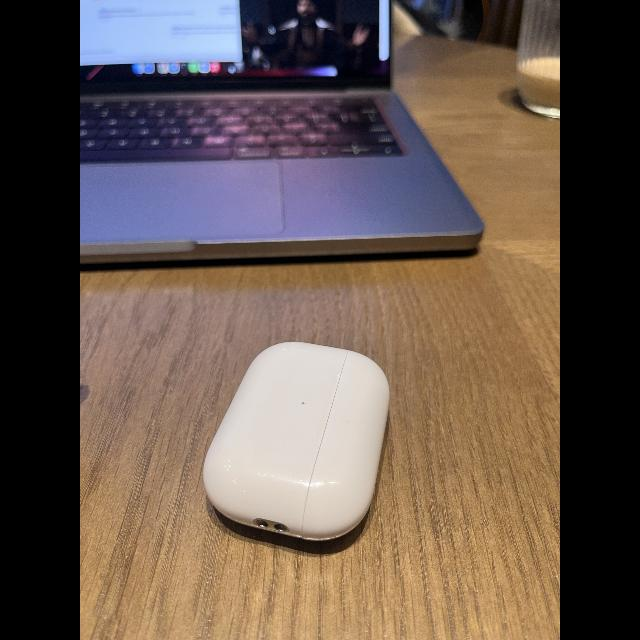AirPods Pro: (198, 334, 392, 562)
